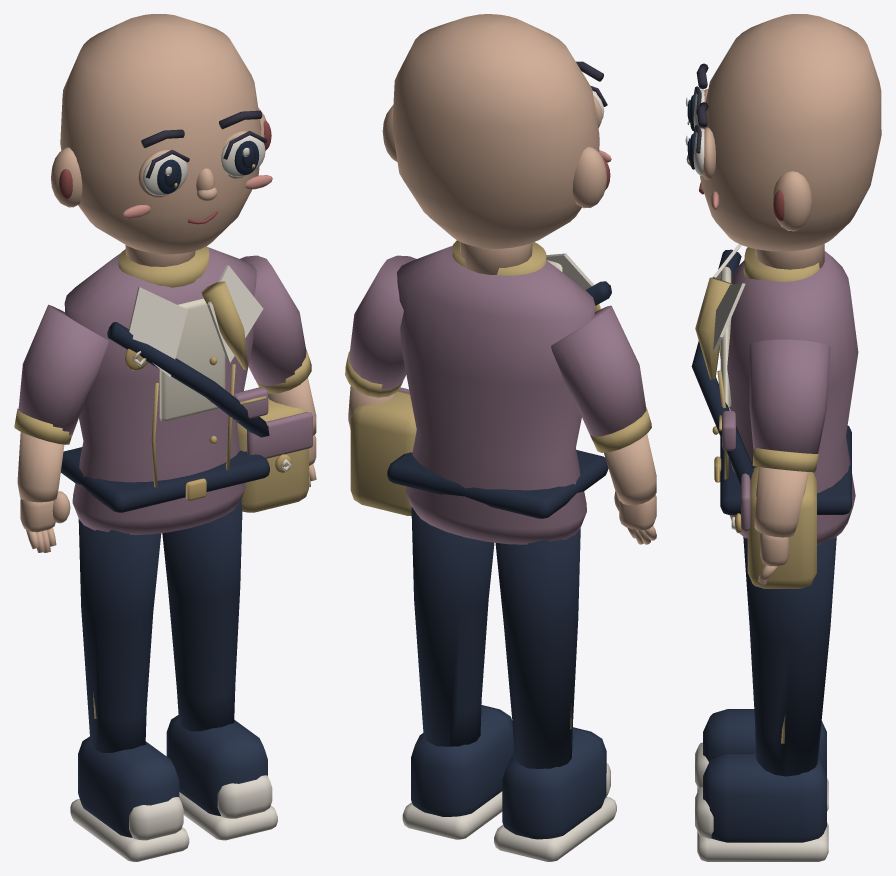
The model's file is npc_bosshighland_trainer_2.glb.
The picture shows the model from 3 angles, left to right: view 1: azimuth 30°, elevation 25°; view 2: azimuth 150°, elevation 25°; view 3: azimuth 270°, elevation 25°; orthographic projection. The views are drawn at different scales.
Visible parts, largest first — view 1: figure.077; view 2: figure.077; view 3: figure.077.
Part boxes in pixels (bbox=[...]): figure.077: bbox=[14, 14, 316, 861]; figure.077: bbox=[345, 14, 656, 861]; figure.077: bbox=[685, 14, 881, 861].
Size of the model in its own units: 0.6145 by 1.58 by 0.3497.
